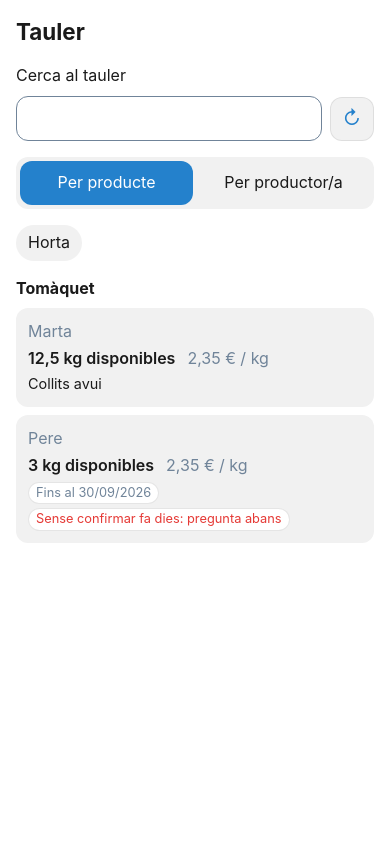
Test: Board (PRD US-3.3, US-3.4) › opens the detail sheet with the reserve form, enabled once a quantity is typed (US-4.1)
Click the button with test id "offer": (195,358) [16,308,374,407]
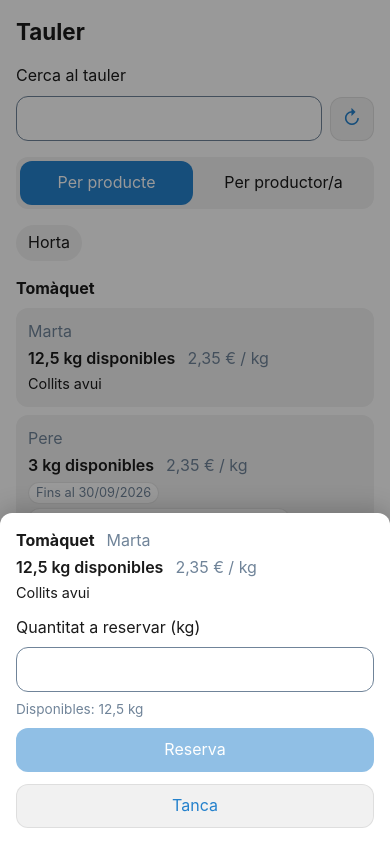
Now the button with test id "reserve" showing "Reserva" is disabled, box [16,728,374,772]
Now the text "Disponibles: 12,5 kg" is shown, box [16,701,144,717]
In the number field labelled "Quantitat a reservar (kg)": (195,670) [16,647,374,692], type "2.5"
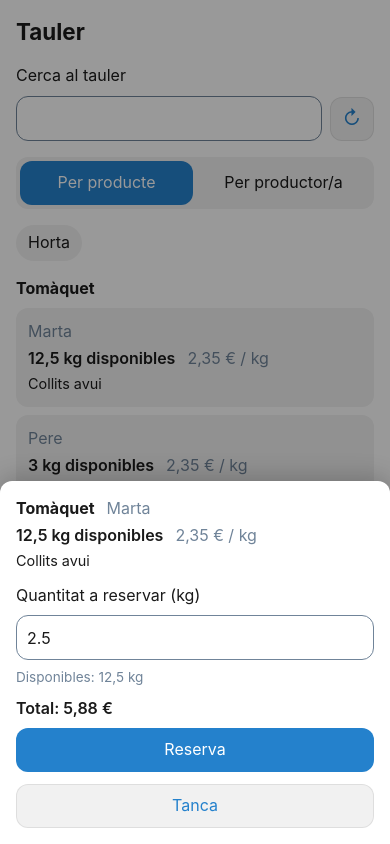
Now the button with test id "reserve" showing "Reserva" is enabled, box [16,728,374,772]
Now the text with test id "reserve-total" reads "Total: 5,88 €", box [16,698,113,718]
Click the button "Tanca": (195,806) [16,784,374,828]
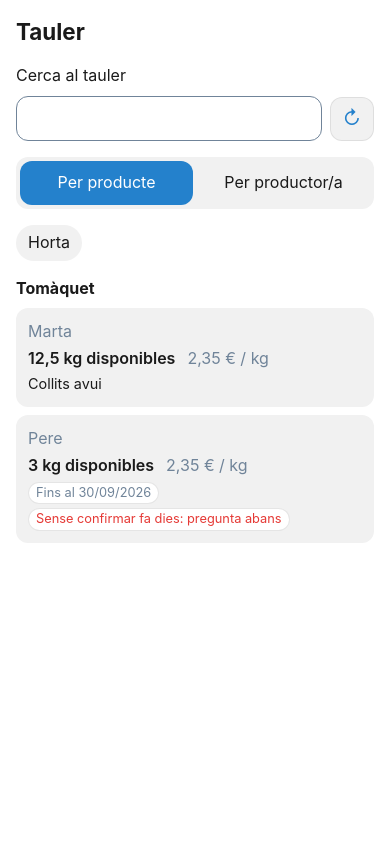
Now the dialog is gone
